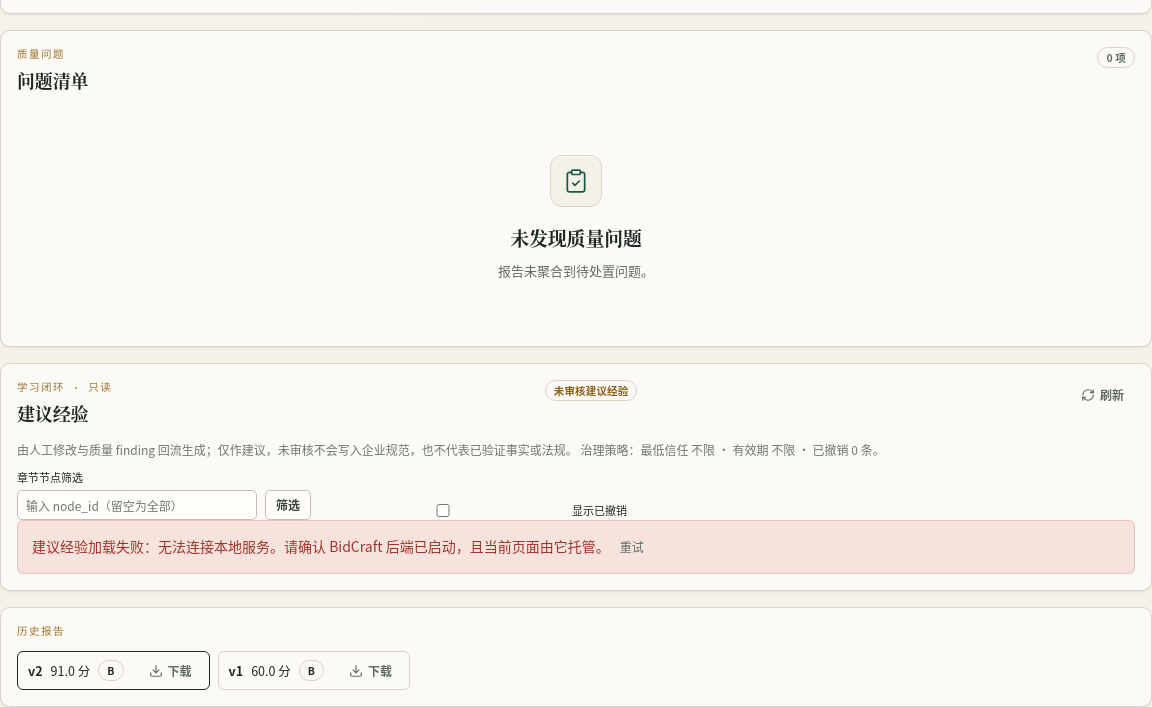
QualityTab 交互修复 › 选择历史报告时按需加载 findings
(page scrolled)
What coordinates should you click on to do the following:
click the button "v1 60.0 分 B"
I would click on:
 (276, 671)
Its box is [218,652,334,689].
(page scrolled)
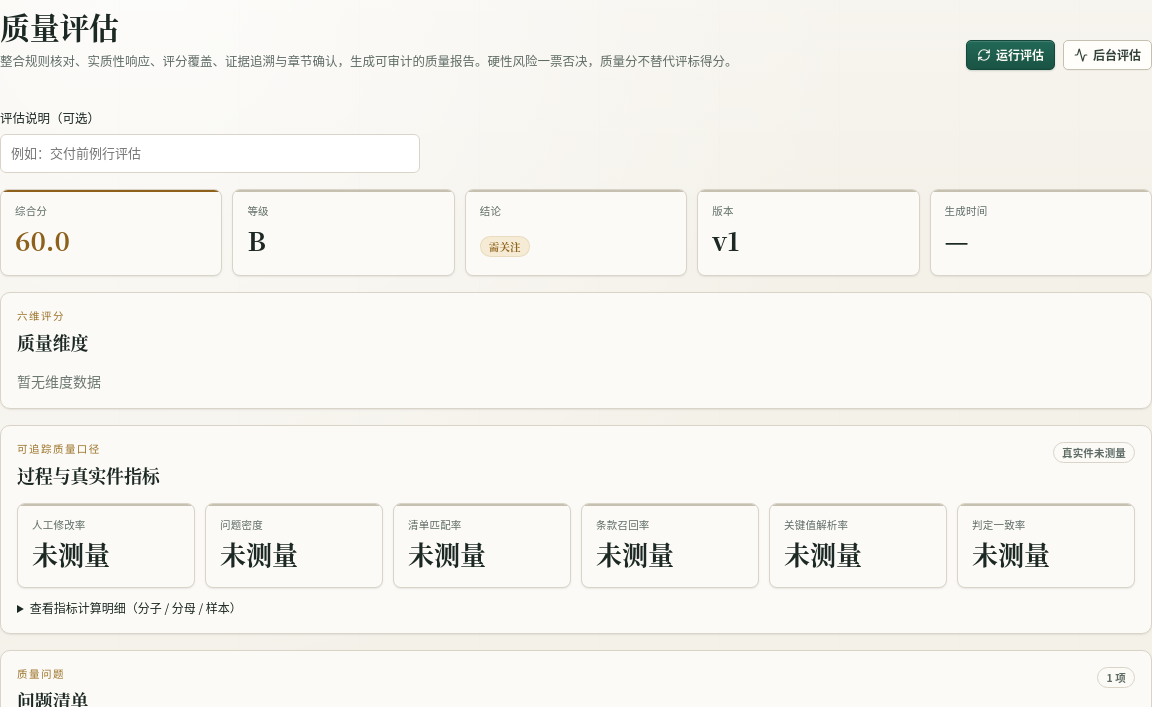
Now the text "60.0" is shown, box [15,221,70,258]
